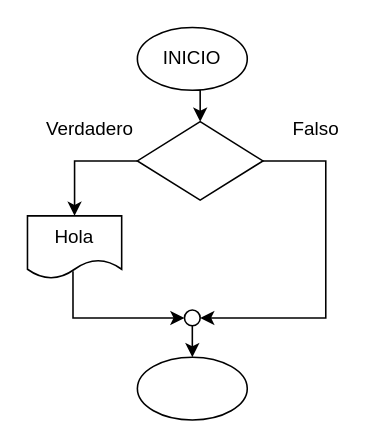
Some shapes in this 391 by 447 pixel diagram are drawn without their labels. Here are the shapes that lost their labels. From the top down, the centre of each, then its label:
the point at 199,160: n ≠ 7
the point at 191,388: FIN
